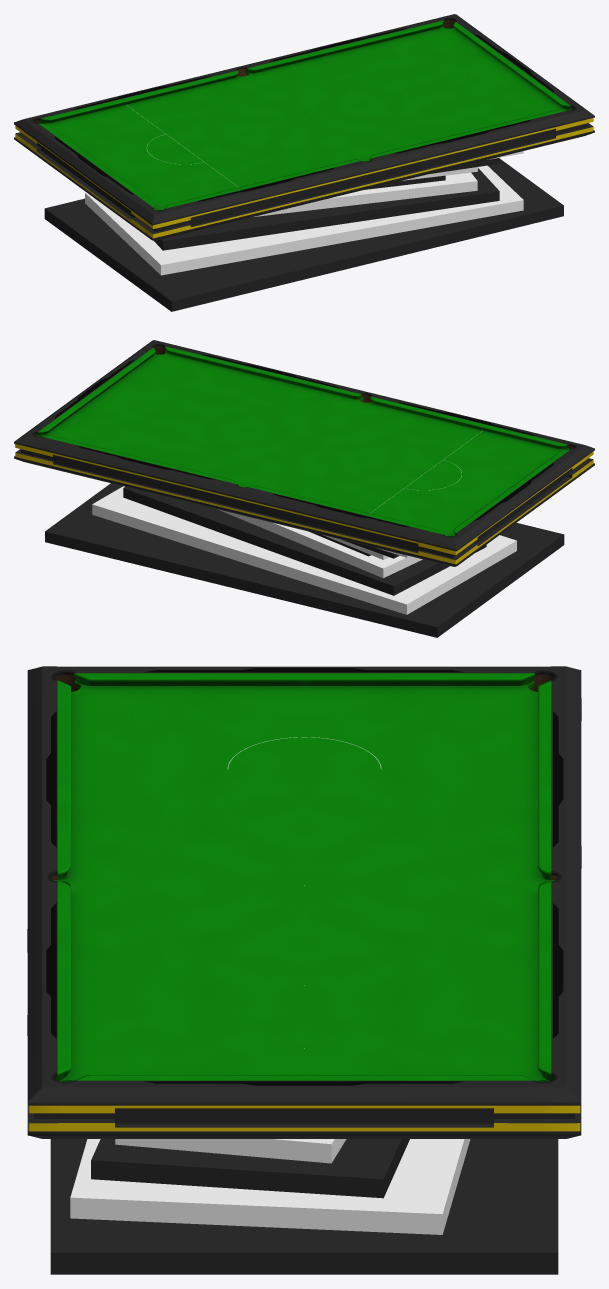
The picture shows the model from 3 angles, top to bottom: view 1: azimuth 30°, elevation 25°; view 2: azimuth 150°, elevation 25°; view 3: azimuth 270°, elevation 25°; orthographic projection. The views are drawn at different scales.
Parts seen in each view (by area): view 1: 桌子; view 2: 桌子; view 3: 桌子.
Boxes of the visible parts, <box> form: 桌子: <box>14,14,594,311</box>; 桌子: <box>14,340,594,637</box>; 桌子: <box>27,666,581,1274</box>.
Size of the model in its own units: 389 by 211 by 86.66.
